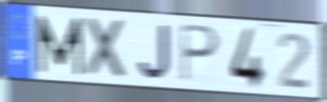2: (276, 31, 312, 92)
4: (229, 25, 267, 91)
J: (136, 22, 172, 82)
M: (34, 13, 85, 77)
P: (178, 22, 222, 85)
X: (84, 15, 129, 82)
